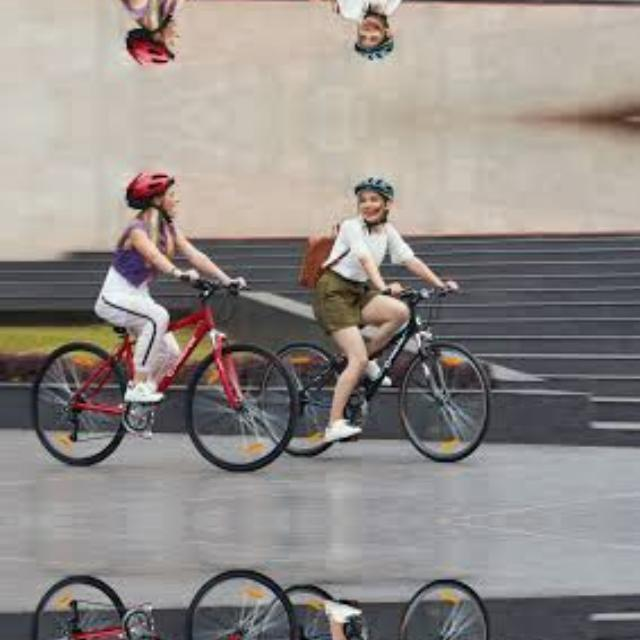obstacle: (41, 280, 297, 474), (276, 287, 494, 477), (41, 566, 297, 640), (276, 564, 494, 640)
